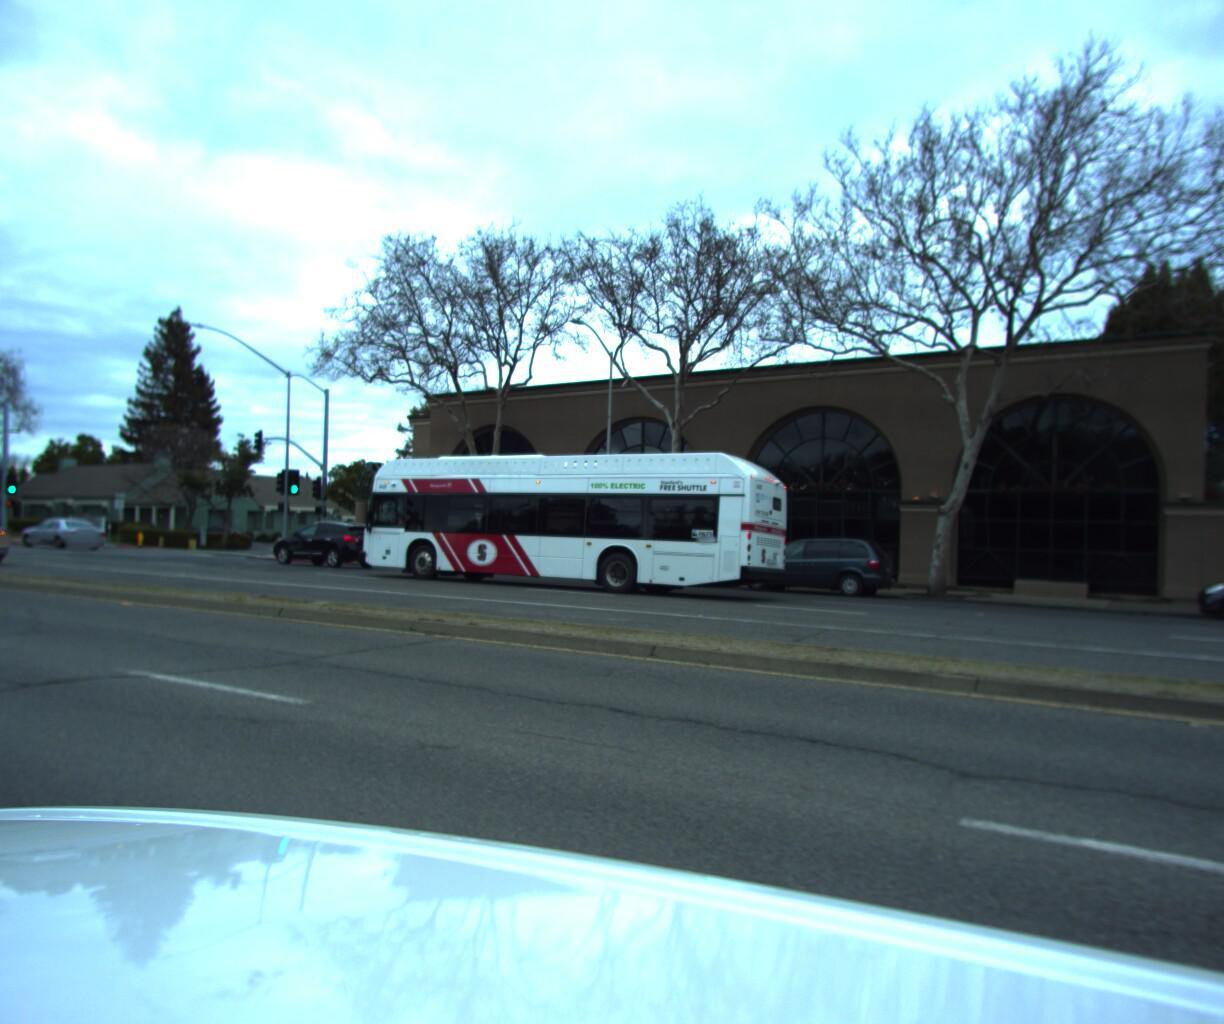bus: (351, 447, 803, 604)
car: (720, 532, 900, 602), (261, 516, 380, 570), (1187, 555, 1224, 639), (18, 514, 106, 547), (0, 507, 14, 567)
